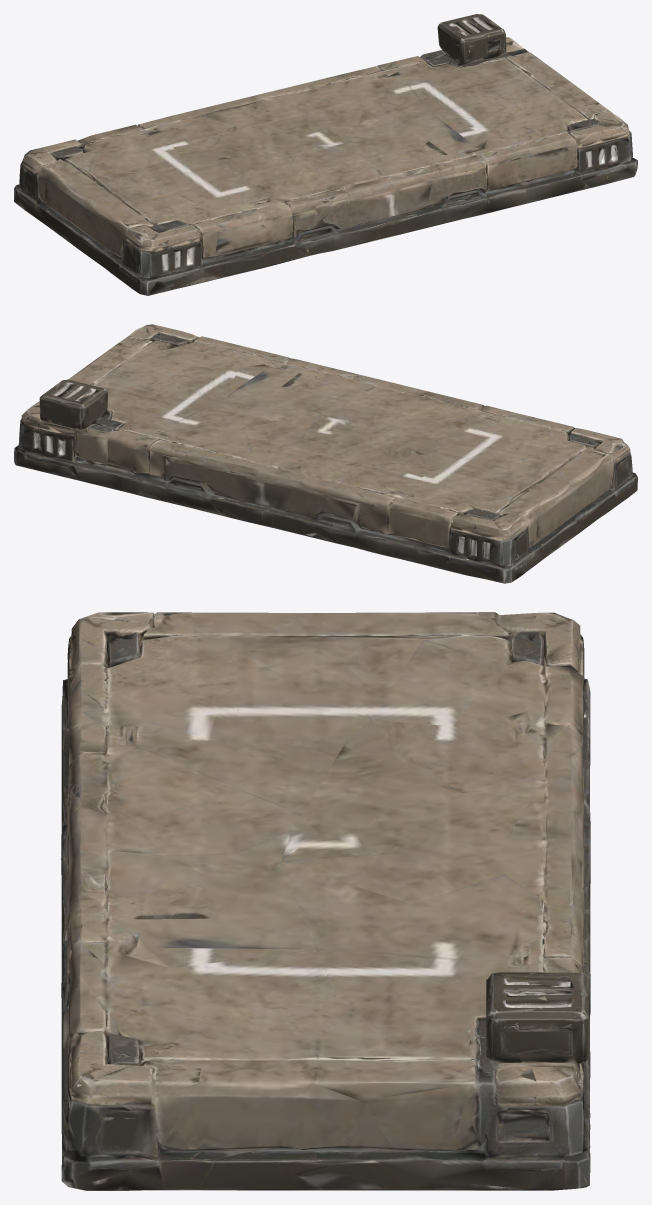
The model's file is landing-platform-rock.glb.
3 renders of one model, top to bottom at view 1: azimuth 30°, elevation 25°; view 2: azimuth 150°, elevation 25°; view 3: azimuth 270°, elevation 25°, orthographic. The views are drawn at different scales.
Bounding box in the file's own units: 1.9 × 0.2775 × 0.8772.
Materials: 1 (1 with a texture image).
